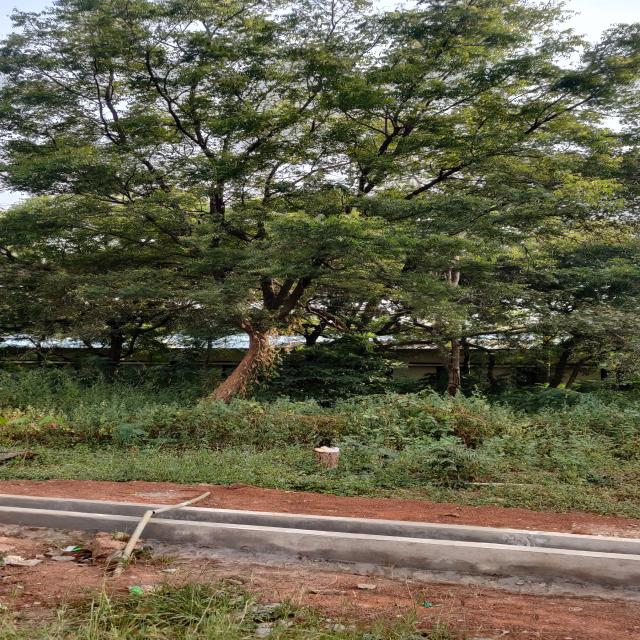Neem Tree: (27, 2, 575, 321)
